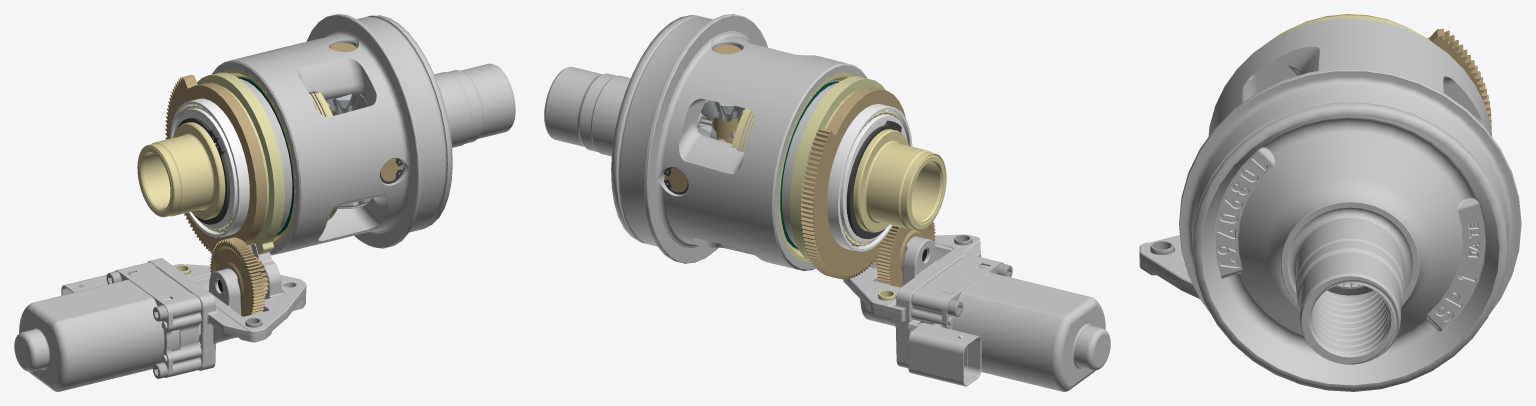
File: TaycanGearRotation5.glb
3 renders of one model, left to right at view 1: azimuth 30°, elevation 25°; view 2: azimuth 150°, elevation 25°; view 3: azimuth 270°, elevation 25°, orthographic. The views are drawn at different scales.
Parts seen in each view (by area): view 1: EmptyZupcanici, 1600064752, 1600034146_PRT__G_2, Mesh_136, 1600032356_PRT__G_2, DIN628_SNR_65X92X10_5IR_PRT__A, 1600032111_PRT__D_2, Mesh_138, 1600030653_PRT__E_2, DIN471-A65-2_3_PRT__F_1, 1600032191_PRT__C_3.001; view 2: EmptyZupcanici, 1600064752, 1600034146_PRT__G_2, 1600032356_PRT__G_2, Mesh_136, DIN628_SNR_65X92X10_5IR_PRT__A, 1600032111_PRT__D_2, Mesh_138, 1600030653_PRT__E_2, DIN471-A65-2_3_PRT__F_1, 1905540008_PRT__F_10, 1600032191_PRT__C_3.001; view 3: EmptyZupcanici, Mesh_136, 1600032356_PRT__G_2, 1600032111_PRT__D_2, 1600032189_PRT__D_2.
Boxes of the visible parts, x1,y1,x2,y2 form: EmptyZupcanici: (212, 14, 515, 255); 1600064752: (14, 262, 201, 391); 1600034146_PRT__G_2: (137, 69, 295, 245); Mesh_136: (147, 244, 306, 370); 1600032356_PRT__G_2: (165, 75, 267, 253); DIN628_SNR_65X92X10_5IR_PRT__A: (169, 98, 249, 237); 1600032111_PRT__D_2: (197, 72, 284, 254); Mesh_138: (210, 237, 268, 316); 1600030653_PRT__E_2: (238, 77, 293, 235); DIN471-A65-2_3_PRT__F_1: (176, 117, 230, 224); 1600032191_PRT__C_3.001: (326, 93, 368, 114); EmptyZupcanici: (544, 14, 867, 270); 1600064752: (907, 254, 1110, 391); 1600034146_PRT__G_2: (778, 72, 946, 262); 1600032356_PRT__G_2: (800, 87, 905, 279); Mesh_136: (843, 234, 980, 368); DIN628_SNR_65X92X10_5IR_PRT__A: (827, 104, 912, 251); 1600032111_PRT__D_2: (789, 76, 885, 262); Mesh_138: (875, 220, 935, 287); 1600030653_PRT__E_2: (780, 81, 838, 249); DIN471-A65-2_3_PRT__F_1: (846, 120, 901, 239); 1905540008_PRT__F_10: (712, 45, 741, 143); 1600032191_PRT__C_3.001: (701, 100, 744, 122); EmptyZupcanici: (1179, 19, 1521, 391); Mesh_136: (1139, 235, 1199, 298); 1600032356_PRT__G_2: (1288, 14, 1491, 129); 1600032111_PRT__D_2: (1265, 15, 1431, 44); 1600032189_PRT__D_2: (1327, 283, 1373, 295).
Bounding box in the file's own units: 0.3733 × 0.1959 × 0.1757.
